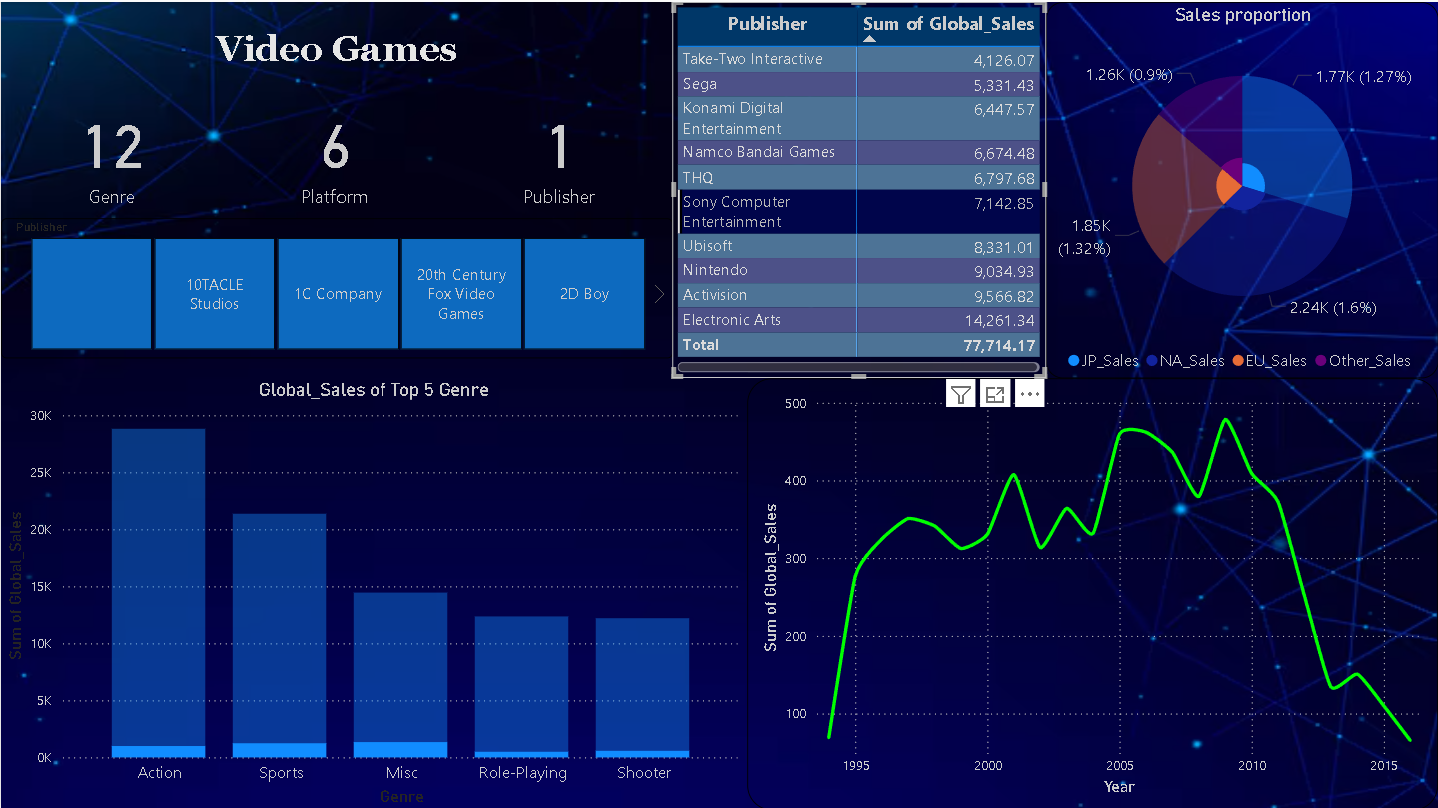

The page's visual inventory and layout, read from the dashboard file:
{"tool":"powerbi","page":{"name":"Page 1","canvas":[1280,720],"ordinal":0},"visuals":[{"type":"lineChart","fields":{"Category":["video_games.Year"],"Y":["Sum(video_games.Global_Sales)"]},"box":[664.2,334.8,616.1,385.6],"z":0},{"type":"pieChart","title":"Sales proportion","fields":{"Y":["Sum(video_games.JP_Sales)","Sum(video_games.NA_Sales)","Sum(video_games.EU_Sales)","Sum(video_games.Other_Sales)"]},"box":[930.4,0,349.9,334.8],"z":1000},{"type":"columnChart","title":"Global_Sales of Top 5 Genre","fields":{"Category":["video_games.Genre"],"Y":["Sum(video_games.Global_Sales)"]},"box":[0,334.8,664.2,385.6],"z":2000},{"type":"card","fields":{"Values":["Count(video_games.Genre)"]},"box":[0,74.1,199,118],"z":3000},{"type":"card","fields":{"Values":["Count(video_games.Platform)"]},"box":[199,74.1,197.6,118],"z":4000},{"type":"card","fields":{"Values":["Count(video_games.Publisher)"]},"box":[396.6,74.1,201.7,118],"z":5000},{"type":"slicer","fields":{"Values":["video_games.Publisher"]},"box":[0,192.1,598.3,124.9],"z":6000},{"type":"textbox","box":[0,0,598.3,74.1],"z":7000},{"type":"pivotTable","title":"             ","fields":{"Rows":["video_games.Publisher"],"Values":["Sum(video_games.Global_Sales)"]},"box":[598.3,0,332.1,334.8],"z":8000}]}

Visuals, with their boxes in screenshot pixels (x1, y1, x2, y2), scaled from the page's 1280x720 canvas onto the 1438x808 screenshot:
lineChart - video_games.Year x Sum(video_games.Global_Sales): {"left": 746, "top": 376, "right": 1437, "bottom": 807}
"Sales proportion" pieChart: {"left": 1045, "top": 0, "right": 1437, "bottom": 376}
"Global_Sales of Top 5 Genre" columnChart: {"left": 0, "top": 376, "right": 746, "bottom": 807}
card - Count(video_games.Genre): {"left": 0, "top": 83, "right": 224, "bottom": 216}
card - Count(video_games.Platform): {"left": 224, "top": 83, "right": 446, "bottom": 216}
card - Count(video_games.Publisher): {"left": 446, "top": 83, "right": 672, "bottom": 216}
slicer - video_games.Publisher: {"left": 0, "top": 216, "right": 672, "bottom": 356}
textbox: {"left": 0, "top": 0, "right": 672, "bottom": 83}
"             " pivotTable: {"left": 672, "top": 0, "right": 1045, "bottom": 376}
